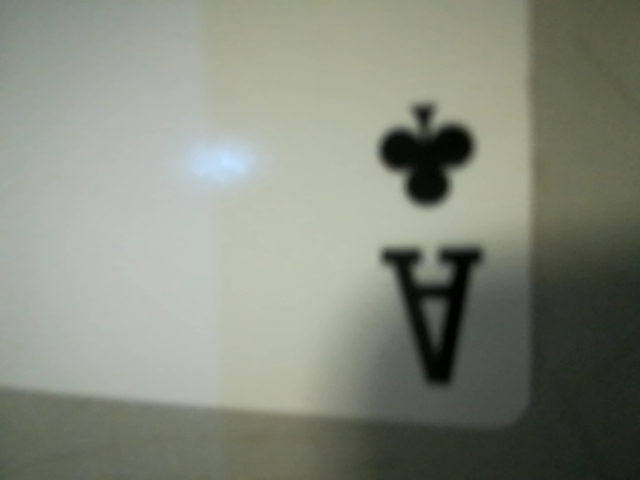mh a: (339, 90, 524, 398)
